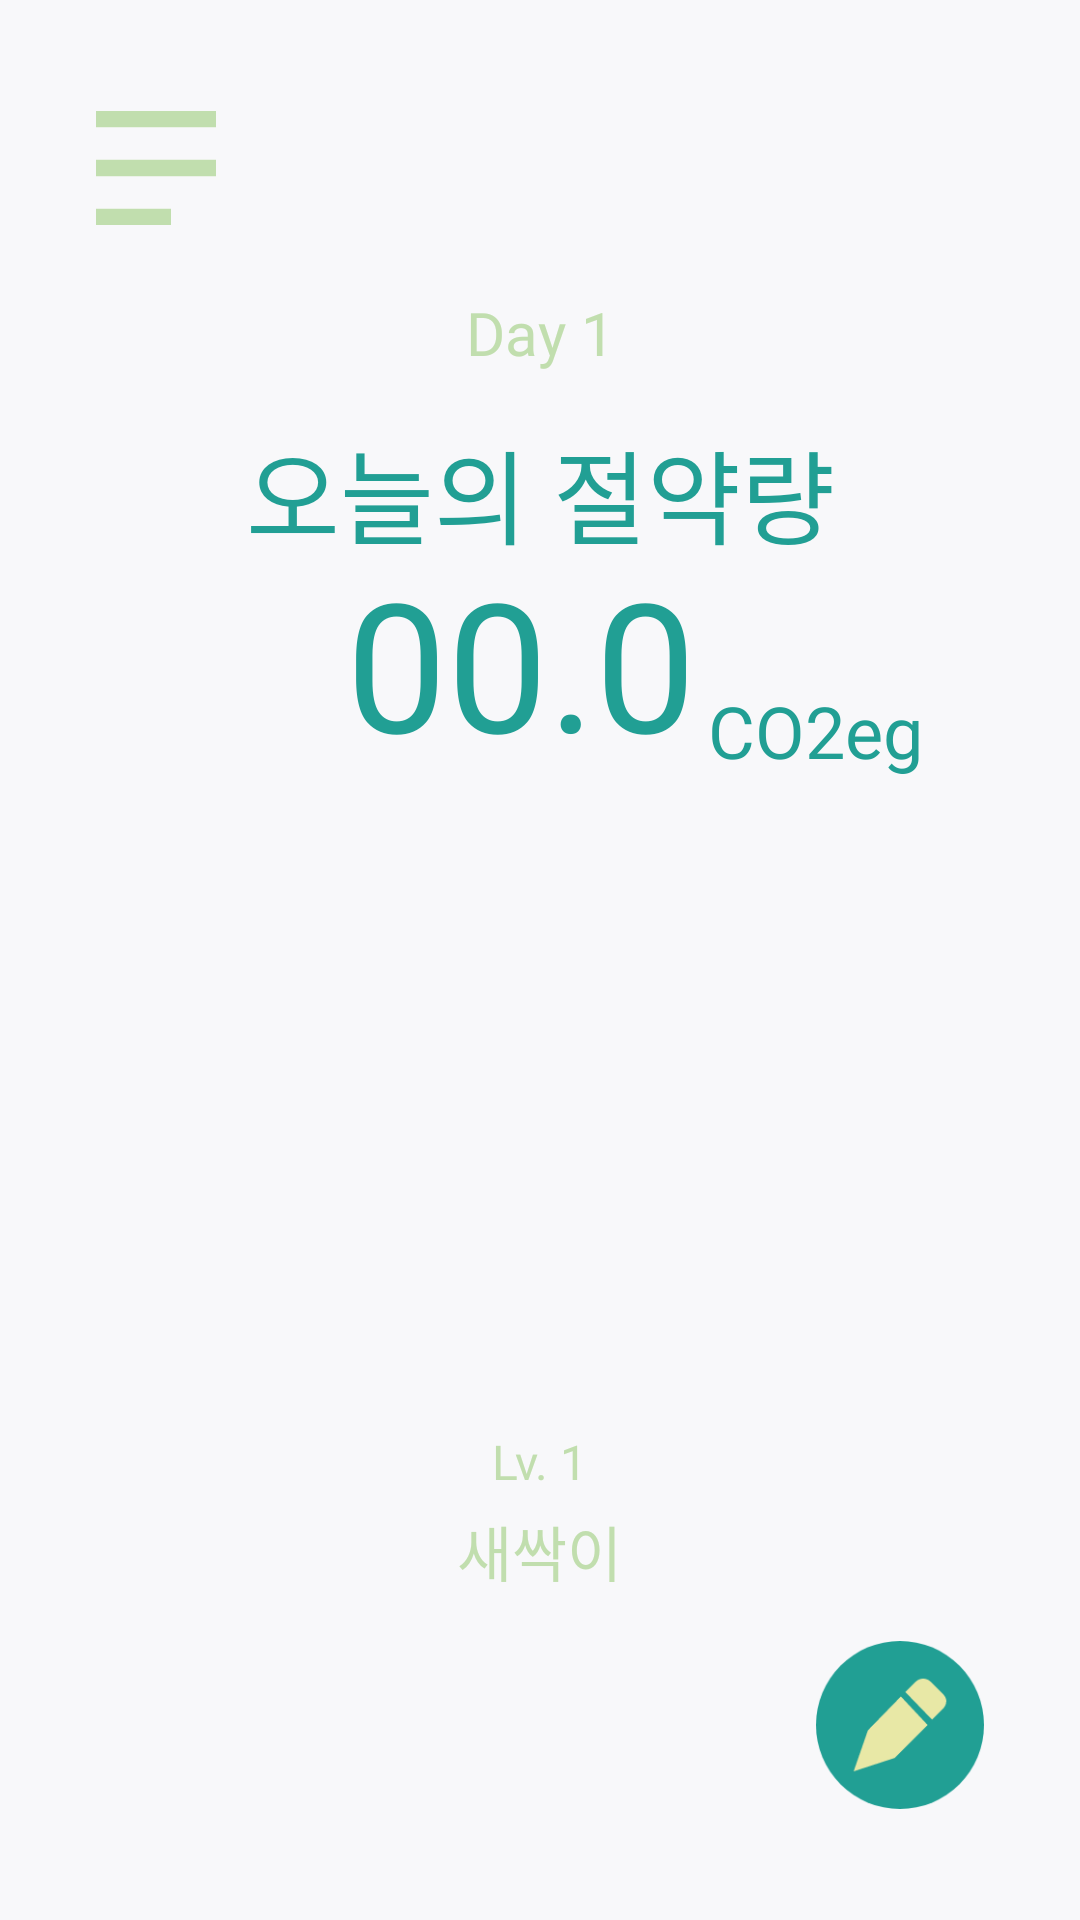

Named icons in this screenshot (1080px×1920px) and their bounding boxes, [x1,y1,x2,y2]:
menu: [96,111,216,225]
recordfloating: [816,1641,984,1809]
